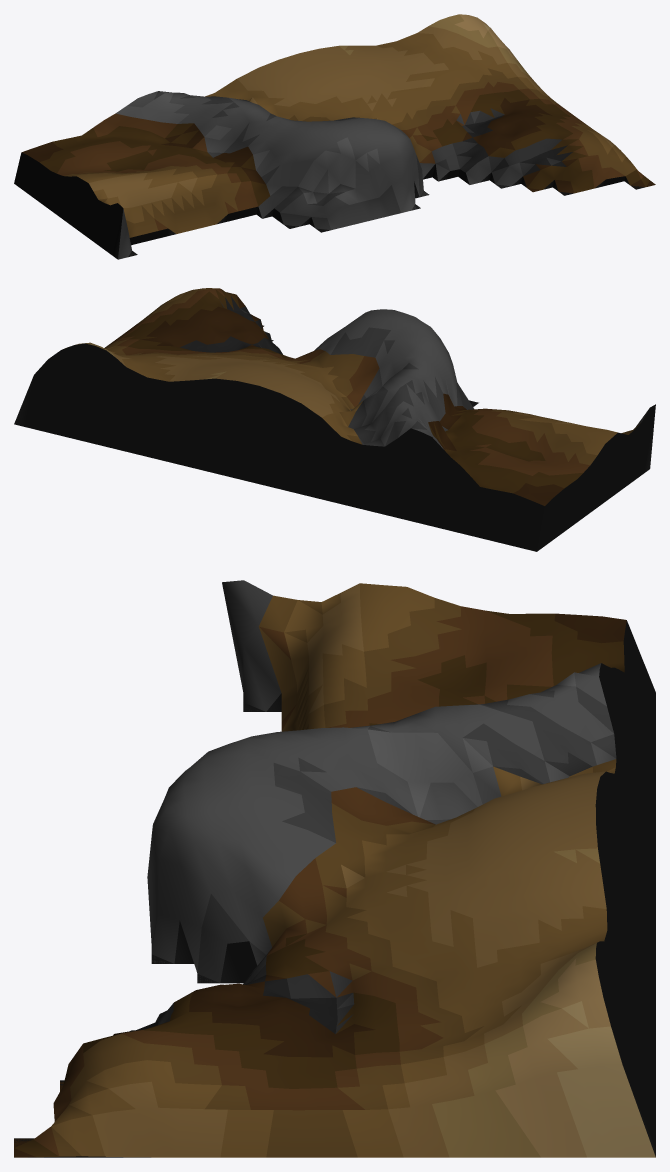
The model's file is rock_machine_br_damaged.glb.
3 views of the same model, one above another, from view 1: azimuth 30°, elevation 25°; view 2: azimuth 150°, elevation 25°; view 3: azimuth 270°, elevation 25° (orthographic). The views are drawn at different scales.
Parts seen in each view (by area): view 1: rock_machine_br_damaged; view 2: rock_machine_br_damaged; view 3: rock_machine_br_damaged.
Part boxes in pixels (left/top/right/bottom): rock_machine_br_damaged: left=14, top=14, right=655, bottom=259; rock_machine_br_damaged: left=14, top=288, right=655, bottom=551; rock_machine_br_damaged: left=14, top=580, right=655, bottom=1157.
Bounding box in the file's own units: 24 × 3.87 × 14.
